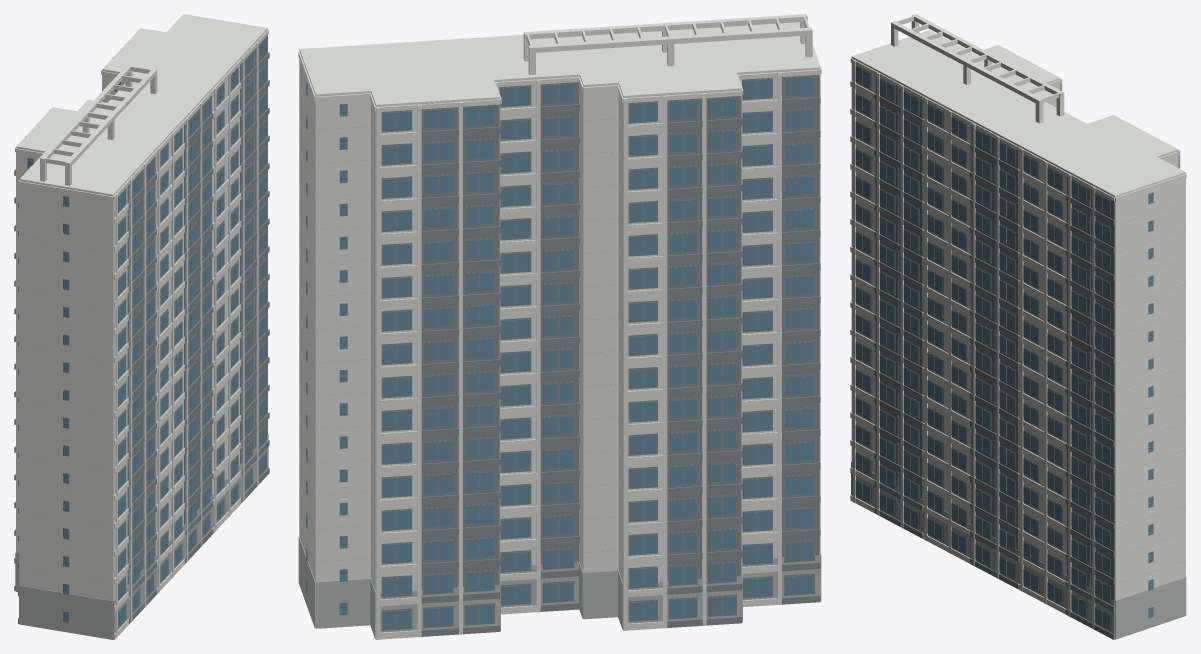
Rendered from bespoke-gaepo-raemian-forest-102.glb.
3 views of the same model, side by side, from view 1: azimuth 30°, elevation 25°; view 2: azimuth 150°, elevation 25°; view 3: azimuth 270°, elevation 25° (orthographic). The views are drawn at different scales.
Visible parts, largest first — view 1: Gaepo102_editable_Gaepo102_broad_white_facade_frames, Gaepo102_editable_Gaepo102_dark_grey_vertical_window_banks, Gaepo102_editable_Gaepo102_blue_glazing, Gaepo102_editable_Gaepo102_light_grey_solid_wall; view 2: Gaepo102_editable_Gaepo102_broad_white_facade_frames, Gaepo102_editable_Gaepo102_blue_glazing, Gaepo102_editable_Gaepo102_dark_grey_vertical_window_banks, Gaepo102_editable_Gaepo102_light_grey_solid_wall; view 3: Gaepo102_editable_Gaepo102_broad_white_facade_frames, Gaepo102_editable_Gaepo102_blue_glazing, Gaepo102_editable_Gaepo102_dark_grey_vertical_window_banks, Gaepo102_editable_Gaepo102_light_grey_solid_wall.
Part boxes in pixels (<box>): Gaepo102_editable_Gaepo102_broad_white_facade_frames: <box>15,14,268,639</box>; Gaepo102_editable_Gaepo102_dark_grey_vertical_window_banks: <box>14,35,269,628</box>; Gaepo102_editable_Gaepo102_blue_glazing: <box>27,37,266,627</box>; Gaepo102_editable_Gaepo102_light_grey_solid_wall: <box>15,99,268,639</box>; Gaepo102_editable_Gaepo102_broad_white_facade_frames: <box>298,14,821,639</box>; Gaepo102_editable_Gaepo102_blue_glazing: <box>306,76,813,629</box>; Gaepo102_editable_Gaepo102_dark_grey_vertical_window_banks: <box>381,71,820,636</box>; Gaepo102_editable_Gaepo102_light_grey_solid_wall: <box>298,85,821,638</box>; Gaepo102_editable_Gaepo102_broad_white_facade_frames: <box>850,14,1186,638</box>; Gaepo102_editable_Gaepo102_blue_glazing: <box>855,66,1153,630</box>; Gaepo102_editable_Gaepo102_dark_grey_vertical_window_banks: <box>856,65,1114,639</box>; Gaepo102_editable_Gaepo102_light_grey_solid_wall: <box>851,201,1186,639</box>.
Bounding box in the file's own units: 38.2 × 49.75 × 32.55.
